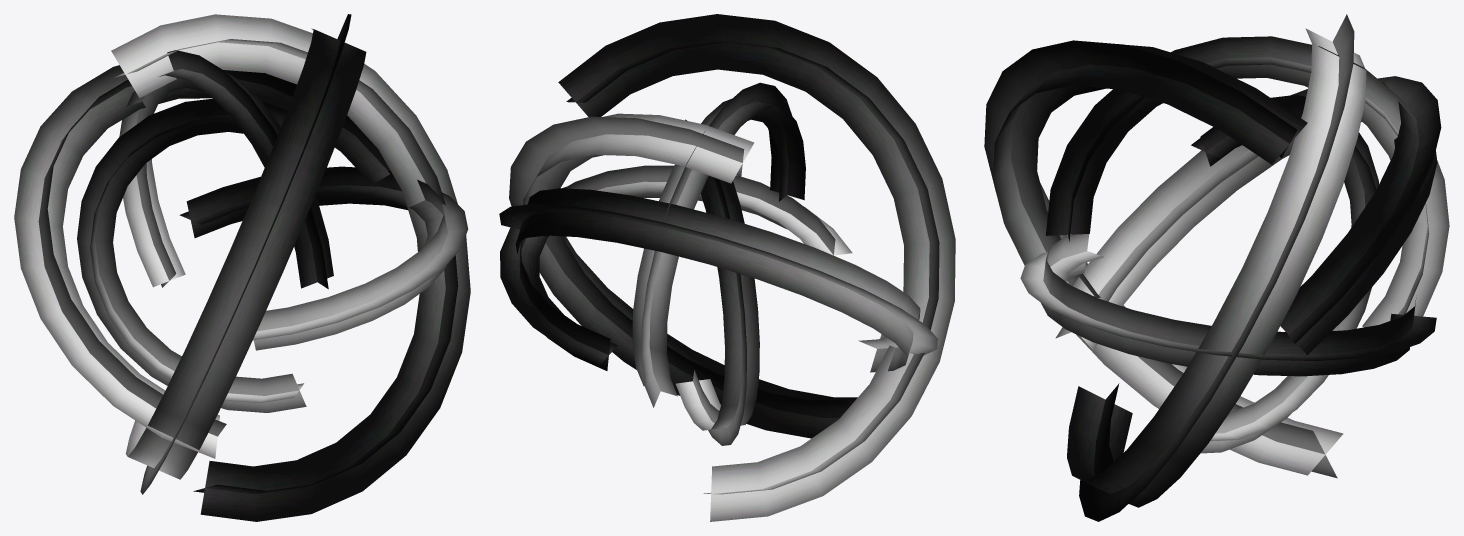
The model's file is vfx_kurp_0073.dae.
3 views of the same model, side by side, from view 1: azimuth 30°, elevation 25°; view 2: azimuth 150°, elevation 25°; view 3: azimuth 270°, elevation 25° (orthographic). The views are drawn at different scales.
Parts seen in each view (by area): view 1: vfx_kurp_0073; view 2: vfx_kurp_0073; view 3: vfx_kurp_0073.
Part boxes in pixels (x1,y1,x2,y2): vfx_kurp_0073: (14,14,470,521); vfx_kurp_0073: (499,14,955,521); vfx_kurp_0073: (984,14,1449,521).
Bounding box in the file's own units: 14.97 × 12.85 × 14.88.
Materials: 1 (1 with a texture image).
